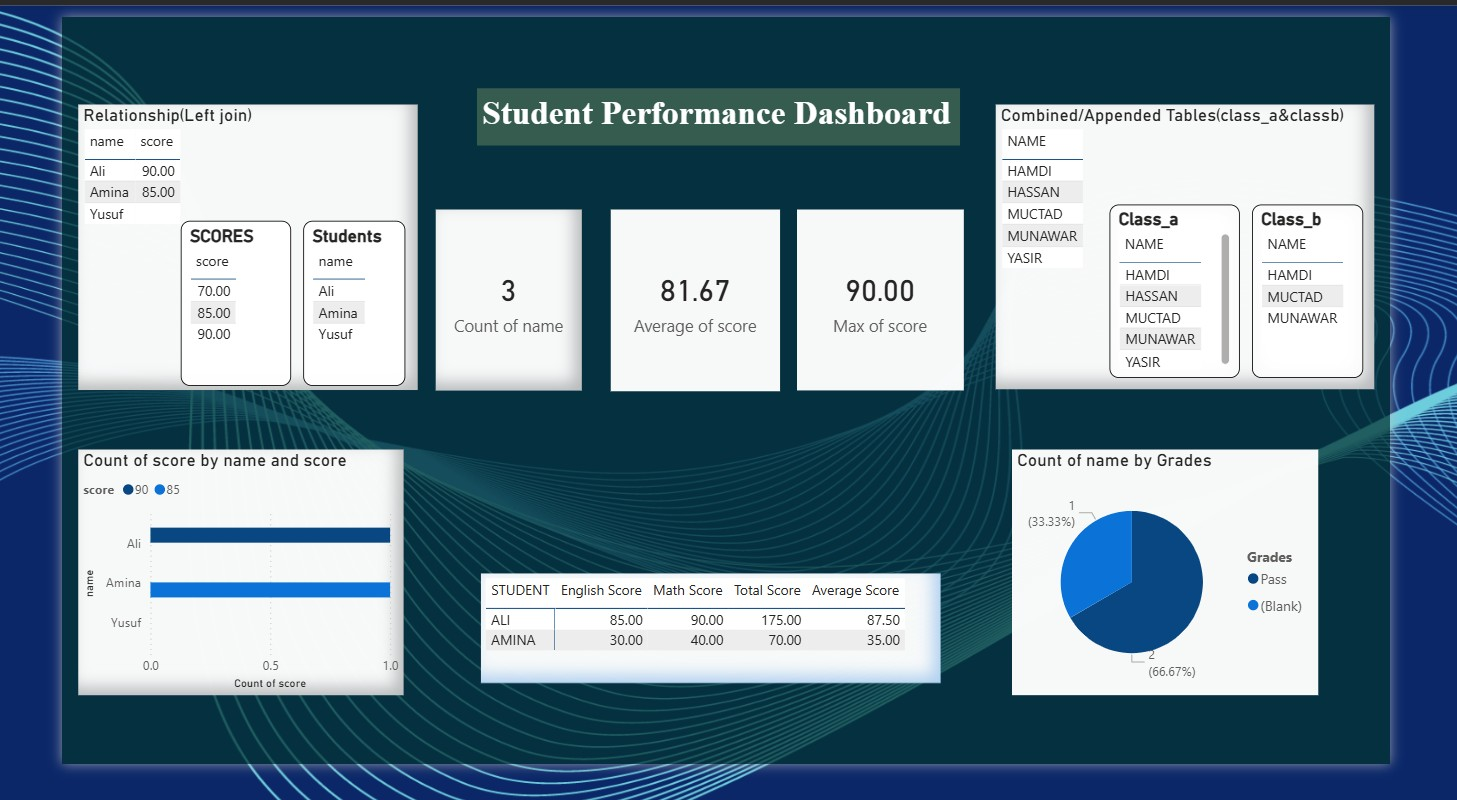

The dashboard page shown, as its layout file describes it:
{"tool":"powerbi","page":{"name":"Page 1","canvas":[1280,720],"ordinal":0},"visuals":[{"type":"tableEx","title":"Relationship(Left join)","fields":{"Values":["studentpractice students.name","studentpractice scores.score"]},"box":[16,84,327.2,275.3],"z":0},{"type":"clusteredBarChart","fields":{"Category":["studentpractice students.name"],"Y":["CountNonNull(studentpractice scores.score)"],"Series":["studentpractice scores.score"]},"box":[16.1,417.2,313.8,236.8],"z":1000},{"type":"card","fields":{"Values":["Avg(studentpractice scores.score)"]},"box":[528.4,185.2,163,175.3],"z":2000},{"type":"card","fields":{"Values":["Max(studentpractice scores.score)"]},"box":[708.6,185.2,160.5,174.1],"z":3000},{"type":"card","fields":{"Values":["CountNonNull(studentpractice students.name)"]},"box":[360.5,185.2,140.7,174.1],"z":4000},{"type":"pieChart","fields":{"Category":["studentpractice scores.Status"],"Y":["CountNonNull(studentpractice students.name)"]},"box":[916.1,417.2,295.4,236.8],"z":5000},{"type":"tableEx","title":"Combined/Appended Tables(class_a&classb)","fields":{"Values":["Append1.NAME"]},"box":[900,84.3,365.1,274.7],"z":6000},{"type":"pivotTable","fields":{"Rows":["studentpractice studentsubjectscore.STUDENT"],"Values":["student subject score.English Score","student subject score.Math Score","student subject score.Total Score","student subject score.Average Score"]},"box":[403.3,536.7,443.3,105.6],"z":7000},{"type":"tableEx","title":"Class_a","fields":{"Values":["class_a.NAME"]},"box":[1009.6,180.7,125.3,167.5],"z":8000},{"type":"tableEx","title":"Class_b","fields":{"Values":["class_b.NAME"]},"box":[1147,180.7,107.2,167.5],"z":9000},{"type":"tableEx","title":"SCORES","fields":{"Values":["scores.score"]},"box":[114.8,196.3,106.2,159.3],"z":10000},{"type":"tableEx","title":"Students","fields":{"Values":["students.name"]},"box":[232.1,196.3,98.8,159.3],"z":11000},{"type":"textbox","box":[400,69.1,465.4,55.6],"z":12000}]}

Visuals, with their boxes in screenshot pixels (x1, y1, x2, y2), scaled from the page's 1280x720 canvas onto the 1457x800 screenshot:
"Relationship(Left join)" tableEx: 18/93/391/399
clusteredBarChart - studentpractice students.name x CountNonNull(studentpractice scores.score): 18/464/376/727
card - Avg(studentpractice scores.score): 601/206/787/401
card - Max(studentpractice scores.score): 807/206/989/399
card - CountNonNull(studentpractice students.name): 410/206/571/399
pieChart - studentpractice scores.Status x CountNonNull(studentpractice students.name): 1043/464/1379/727
"Combined/Appended Tables(class_a&classb)" tableEx: 1024/94/1440/399
pivotTable - studentpractice studentsubjectscore.STUDENT x student subject score.English Score: 459/596/964/714
"Class_a" tableEx: 1149/201/1292/387
"Class_b" tableEx: 1306/201/1428/387
"SCORES" tableEx: 131/218/252/395
"Students" tableEx: 264/218/377/395
textbox: 455/77/985/139
